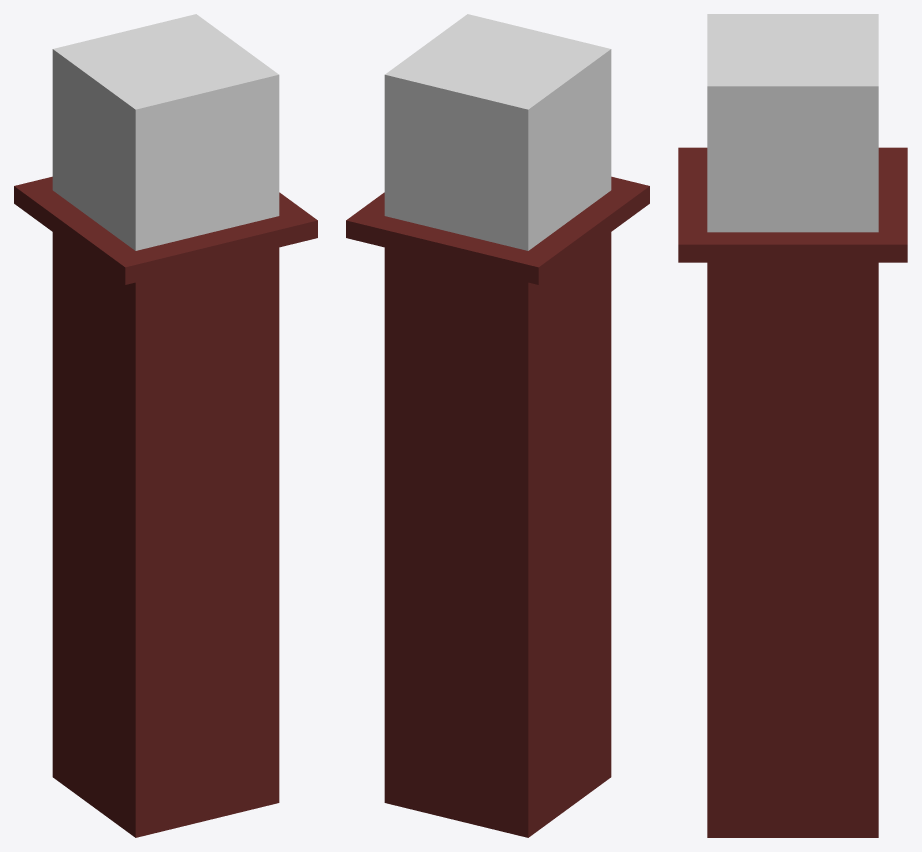
The model's file is newShowCase.fbx.
3 renders of one model, left to right at view 1: azimuth 30°, elevation 25°; view 2: azimuth 150°, elevation 25°; view 3: azimuth 270°, elevation 25°, orthographic. The views are drawn at different scales.
Parts seen in each view (by area): view 1: Cube.001, Cube; view 2: Cube.001, Cube; view 3: Cube.001, Cube.
Boxes of the visible parts, bbox=[...] form: Cube.001: bbox=[14, 176, 317, 837]; Cube: bbox=[52, 14, 279, 250]; Cube.001: bbox=[346, 176, 649, 837]; Cube: bbox=[384, 14, 611, 250]; Cube.001: bbox=[678, 147, 907, 837]; Cube: bbox=[707, 14, 878, 232].
Bounding box in the file's own units: 268 × 970 × 268.
